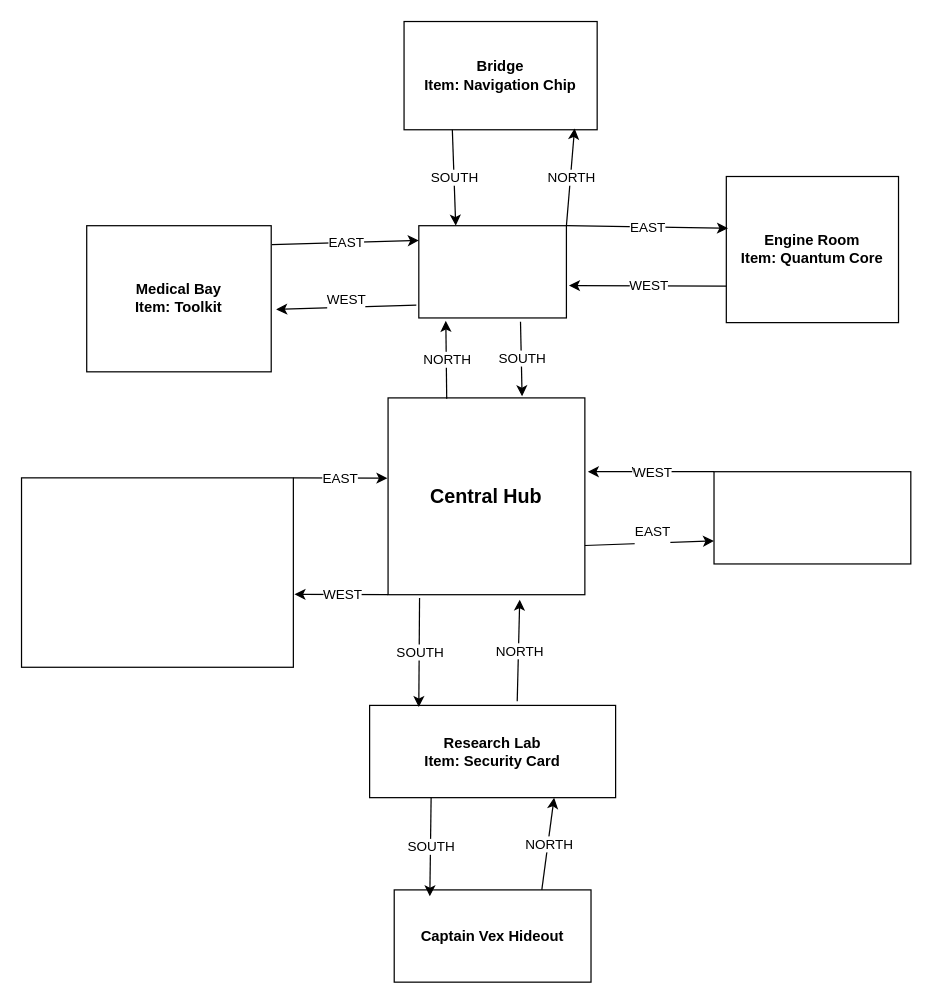
This 932x1004 diagram has some shape labels left out. Each missing label, with the centre of its shape:
Cargo Hold Item: Plasma Battery: the point at 812,517
Crew Quarters: the point at 492,271
Security Station Item: Energy Shield: the point at 156,572
